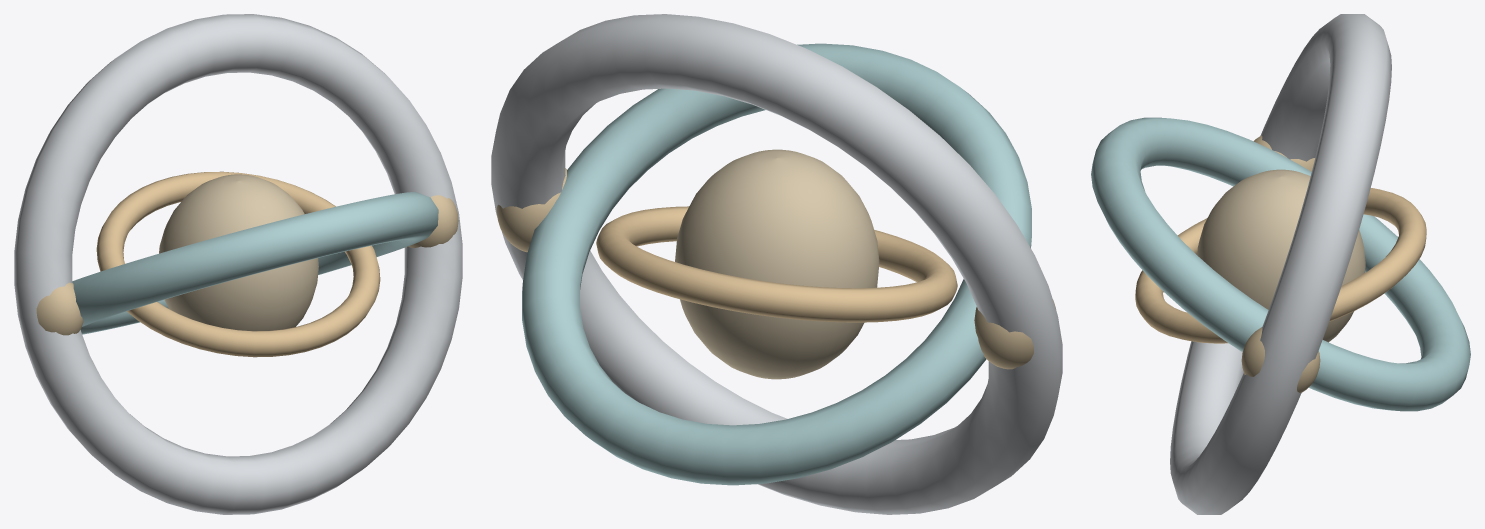
File: orbital-rattle.glb
3 views of the same model, side by side, from view 1: azimuth 30°, elevation 25°; view 2: azimuth 150°, elevation 25°; view 3: azimuth 270°, elevation 25° (orthographic). The views are drawn at different scales.
Visible parts, largest first — view 1: orbital-rattle; view 2: orbital-rattle; view 3: orbital-rattle.
Boxes of the visible parts, bbox=[...] form: orbital-rattle: bbox=[14, 14, 462, 514]; orbital-rattle: bbox=[491, 14, 1062, 514]; orbital-rattle: bbox=[1091, 14, 1470, 514].
Size of the model in its own units: 1.74 by 1.64 by 1.25.
